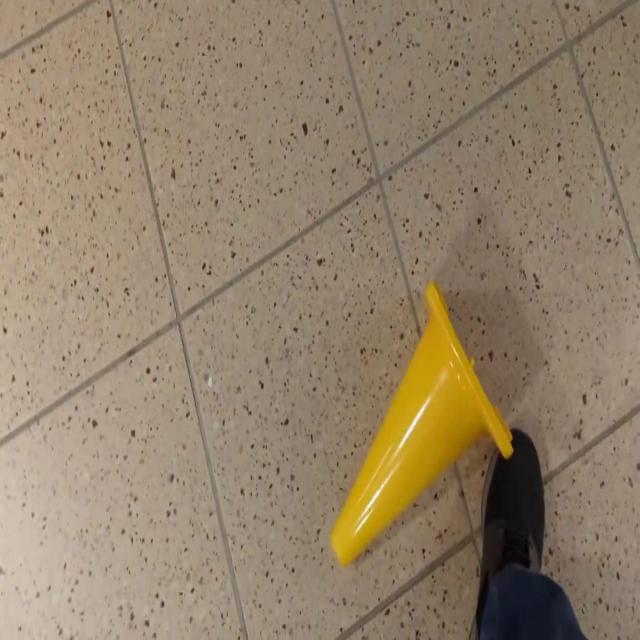frc_cone: (331, 277, 513, 562)
